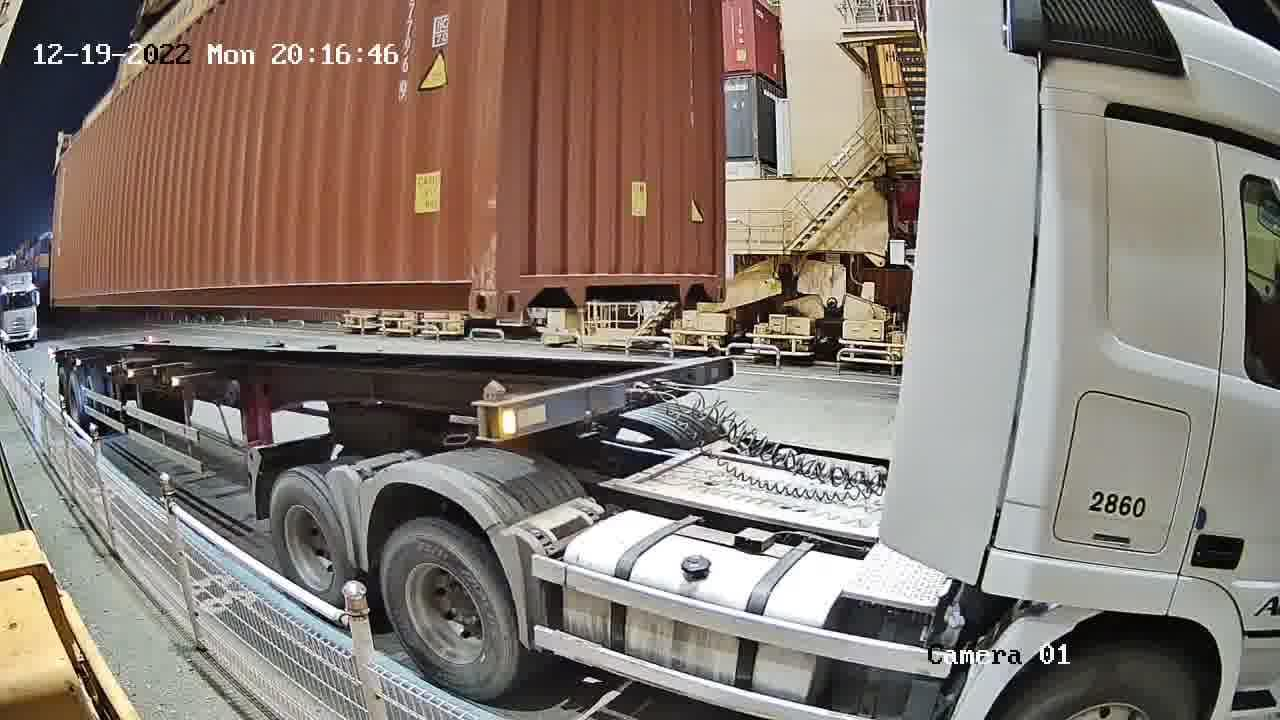Chassis: (474, 354, 731, 441)
Cone: (478, 380, 507, 437), (704, 345, 719, 358)
Hole_L: (497, 251, 551, 318)
Hole_R: (433, 249, 497, 319), (683, 250, 727, 306)
Tire: (379, 519, 517, 698), (267, 471, 348, 603)
